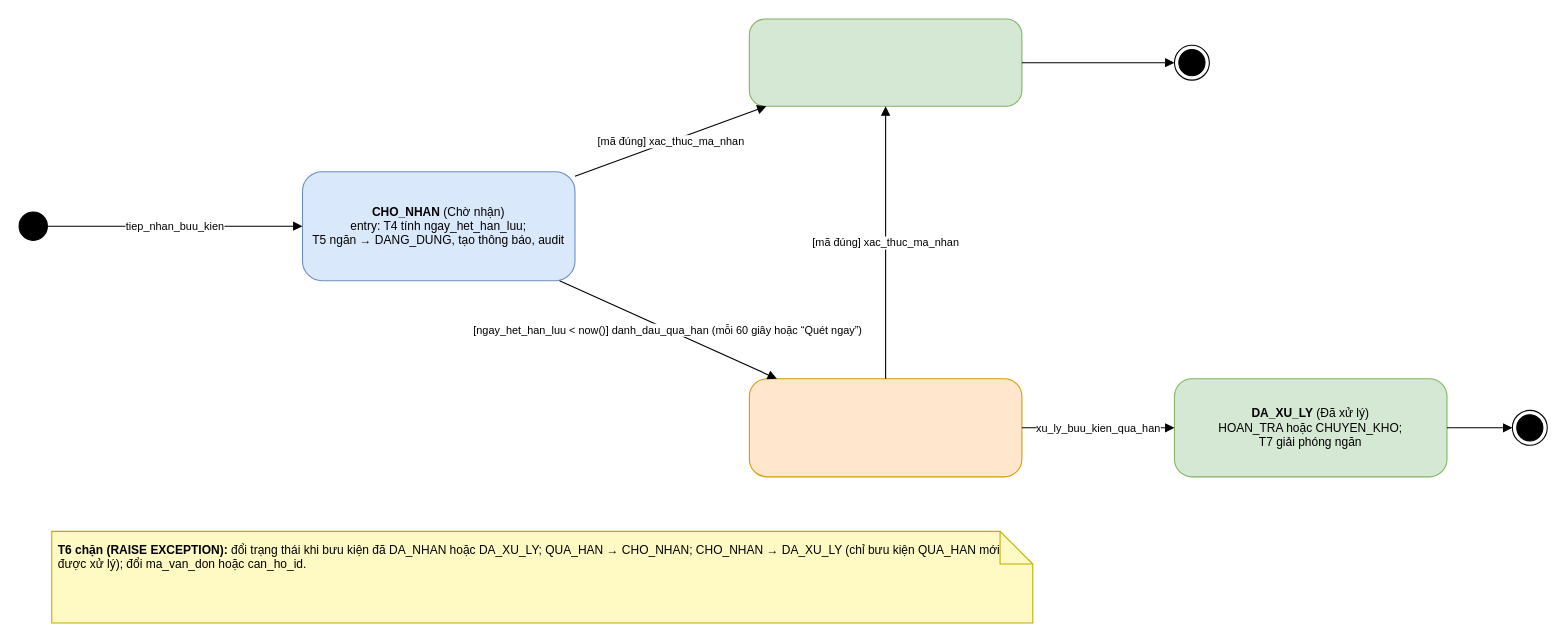
The diagram is 1566 pixels wide and 642 high, and some of its shapes have lost their labels. The centre of each missing label's shape, as x and y in pixels:
"DA_NHAN (Đã nhận) T6 điền ngay_nhan; T7 giải phóng ngăn, vô hiệu mã" belongs at (885,62).
"QUA_HAN (Quá hạn) entry: tạo xu_ly_qua_han (NHAC_NHO) và thông báo quá hạn" belongs at (885,427).
